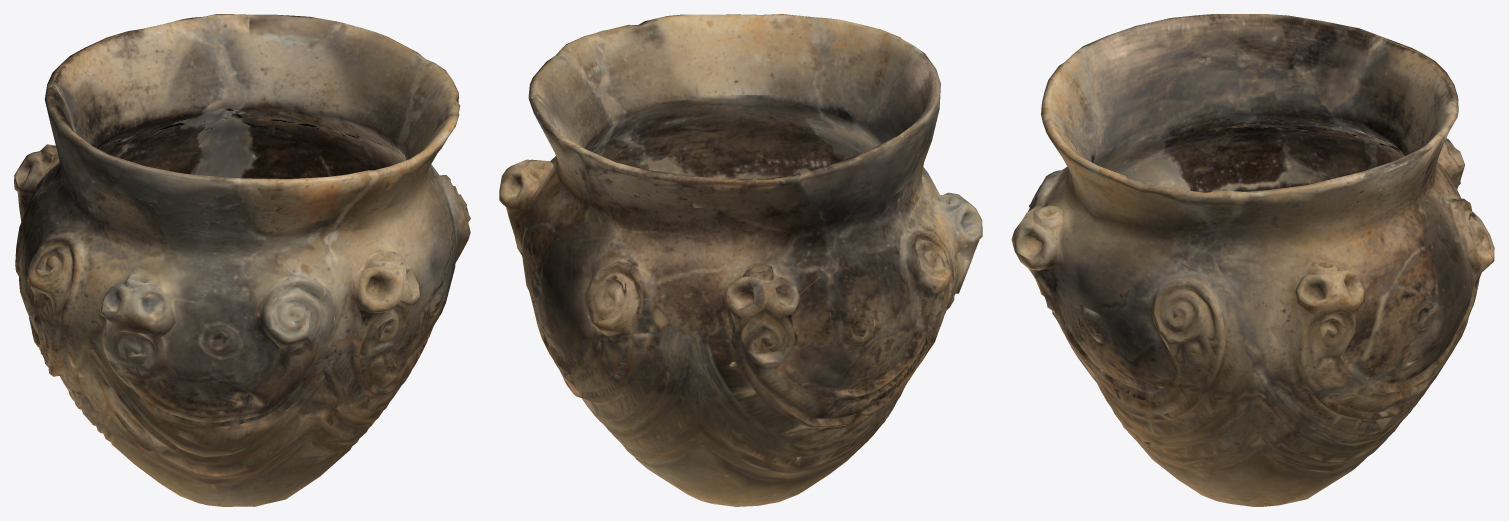
3 renders of one model, left to right at view 1: azimuth 30°, elevation 25°; view 2: azimuth 150°, elevation 25°; view 3: azimuth 270°, elevation 25°, orthographic.
Visible parts, largest first — view 1: NM0015_low; view 2: NM0015_low; view 3: NM0015_low.
Part boxes in pixels (left/top/right/bottom): NM0015_low: left=14, top=14, right=470, bottom=506; NM0015_low: left=499, top=14, right=982, bottom=506; NM0015_low: left=1011, top=14, right=1494, bottom=506.
Bounding box in the file's own units: 246 × 222 × 249.
1 material, 1 textured.
